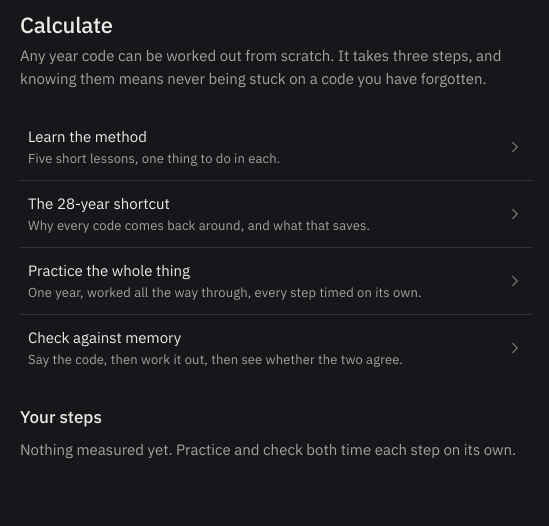
Test: Practice the whole thing › asks three questions straight through and four with reduce-first on
Click the button "Practice the whole thing": (276, 281) [20,248,532,314]
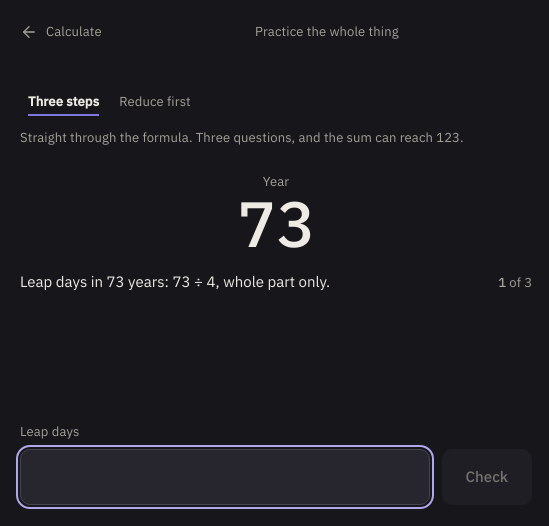
Expected: the element with test id "calc-progress" reads "1 of 3", [498,273,532,292]
Expected: the text "Leap days in 73 years: 73 ÷ 4, whole part only." is shown, [20,271,330,294]
Click the radio button labelled "Reduce first": (155, 104) [111,80,199,128]
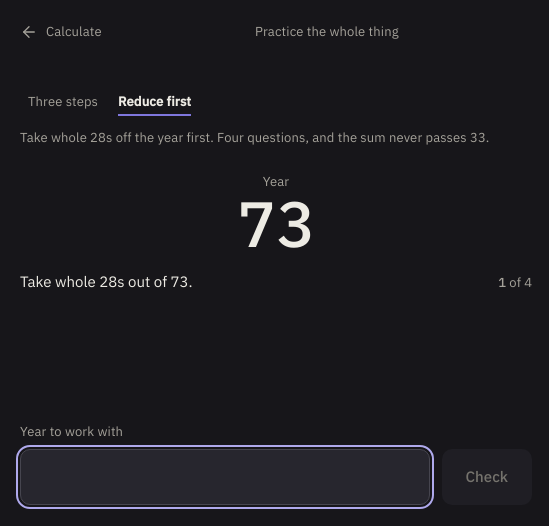
Expected: the element with test id "calc-progress" reads "1 of 4", [498,273,532,292]
Expected: the text "Take whole 28s out of 73." is shown, [20,271,193,294]
